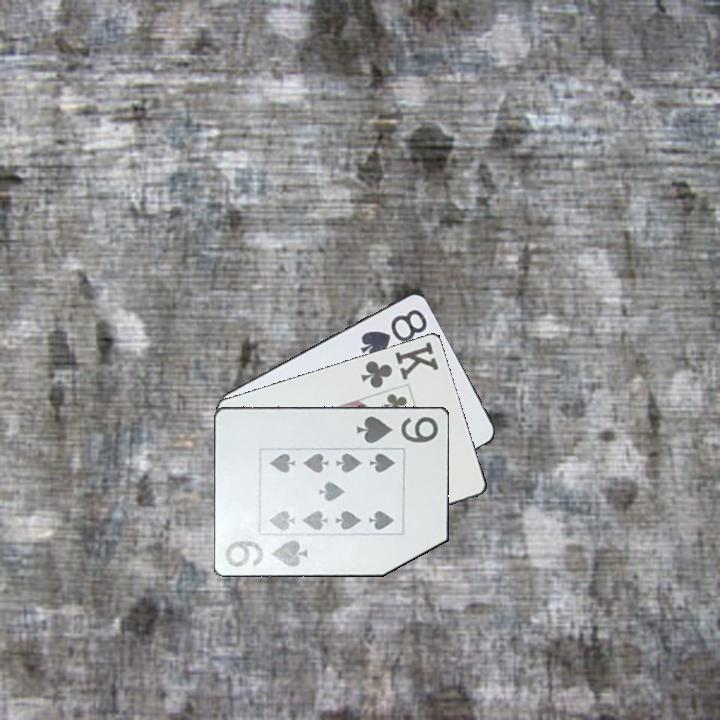8s: (356, 305, 430, 361)
9s: (222, 536, 311, 569), (353, 413, 441, 446)
Kc: (357, 338, 441, 391)
